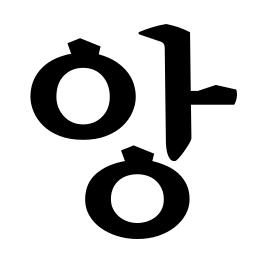Gaji: (148, 72, 209, 124)
